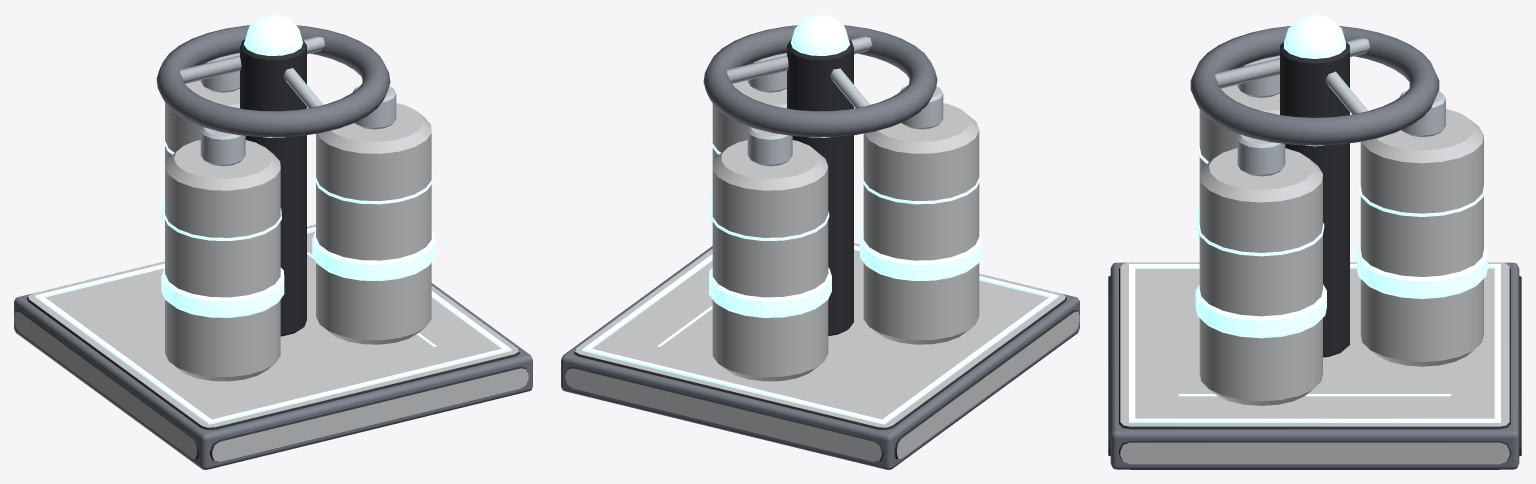
File: R4X_ChargeRegenerator.fbx
3 renders of one model, left to right at view 1: azimuth 30°, elevation 25°; view 2: azimuth 150°, elevation 25°; view 3: azimuth 270°, elevation 25°, orthographic. The views are drawn at different scales.
Visible parts, largest first — view 1: R4X_ChargeRegenerator_Body; view 2: R4X_ChargeRegenerator_Body; view 3: R4X_ChargeRegenerator_Body.
Part boxes in pixels (x1=…): R4X_ChargeRegenerator_Body: x1=14, y1=14, x2=532, y2=469; R4X_ChargeRegenerator_Body: x1=561, y1=14, x2=1079, y2=469; R4X_ChargeRegenerator_Body: x1=1108, y1=14, x2=1521, y2=469.
Bounding box in the file's own units: 0.52 × 0.515 × 0.52.
